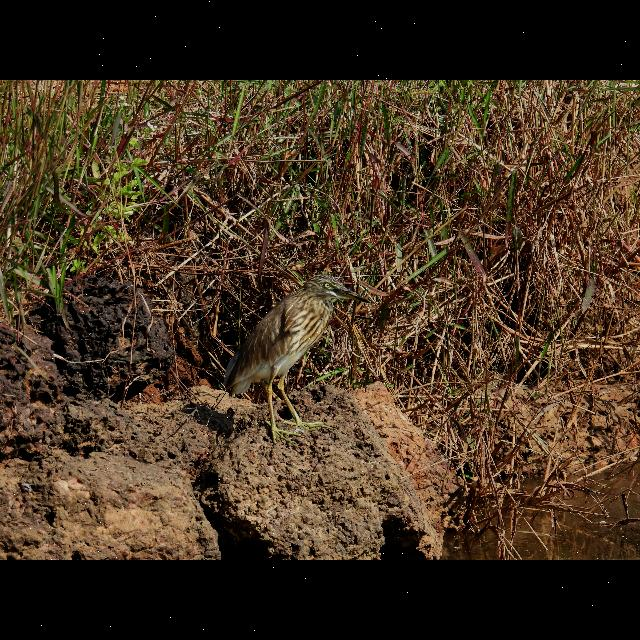heron: (223, 270, 373, 408)
